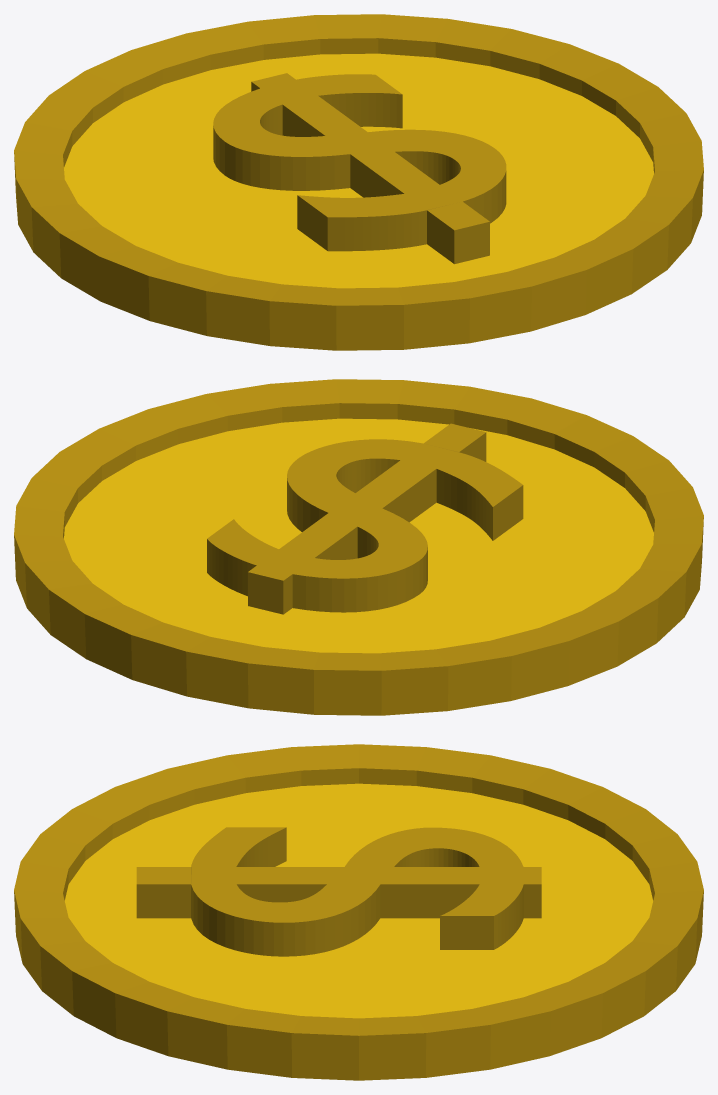
Rendered from moneda1.fbx.
3 views of the same model, one above another, from view 1: azimuth 30°, elevation 25°; view 2: azimuth 150°, elevation 25°; view 3: azimuth 270°, elevation 25° (orthographic).
Visible parts, largest first — view 1: Cylinder, Text; view 2: Cylinder, Text; view 3: Cylinder, Text.
Boxes of the visible parts, bbox=[...] form: Cylinder: bbox=[14, 14, 703, 350]; Text: bbox=[213, 73, 506, 264]; Cylinder: bbox=[14, 379, 703, 715]; Text: bbox=[207, 423, 523, 614]; Cylinder: bbox=[14, 744, 703, 1080]; Text: bbox=[136, 827, 541, 956].
Bounding box in the file's own units: 177 × 21.53 × 177.
1 material, 1 textured.
